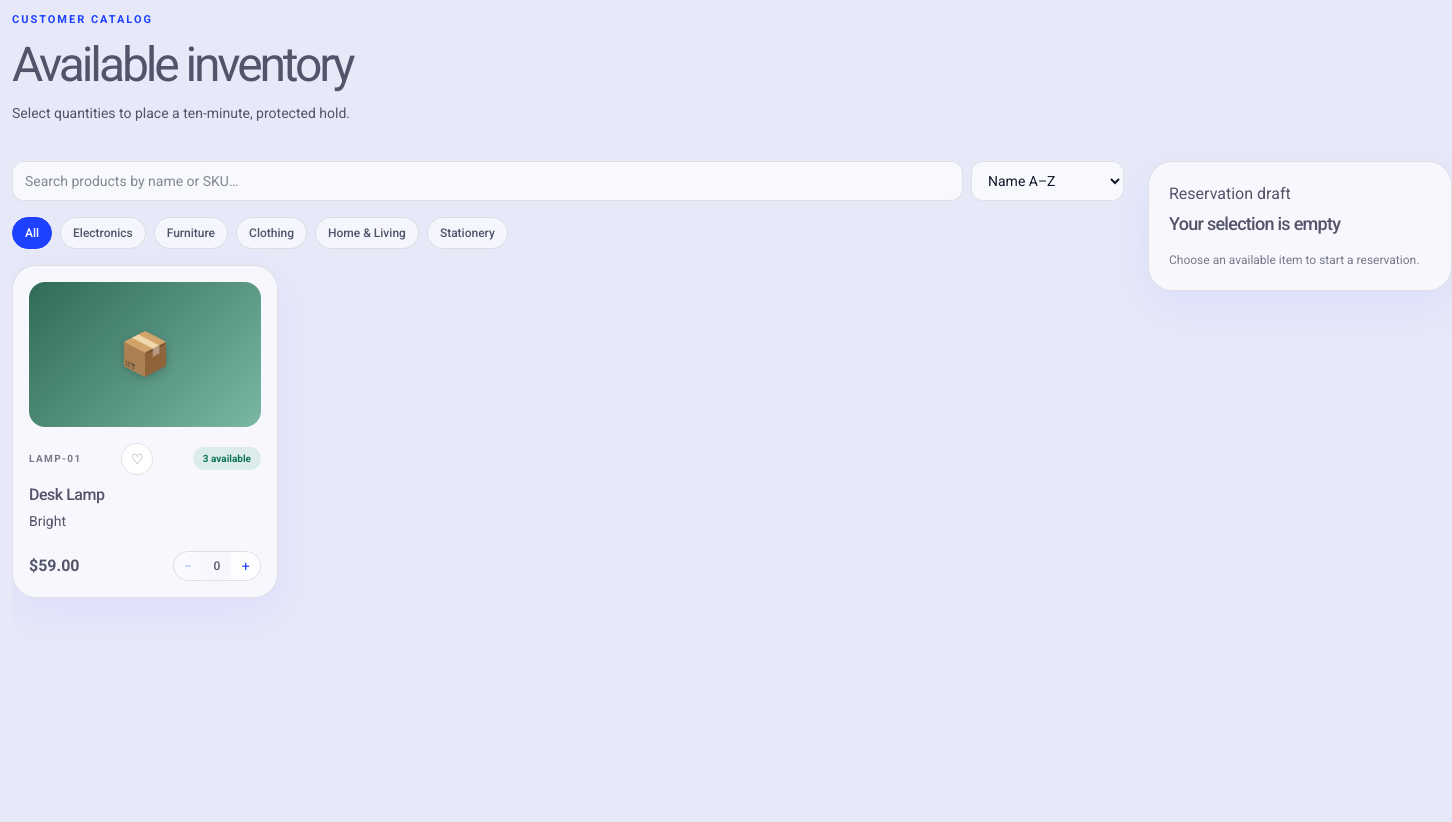
Test: CustomerCatalog › toggles wishlist membership from the product card with snackbar feedback
Check: the heading "Desk Lamp" is shown, box [29,484,104,504]
Click the button named "Add Desk Lamp to wishlist" at x=137, y=458, box [121,442,153,474]
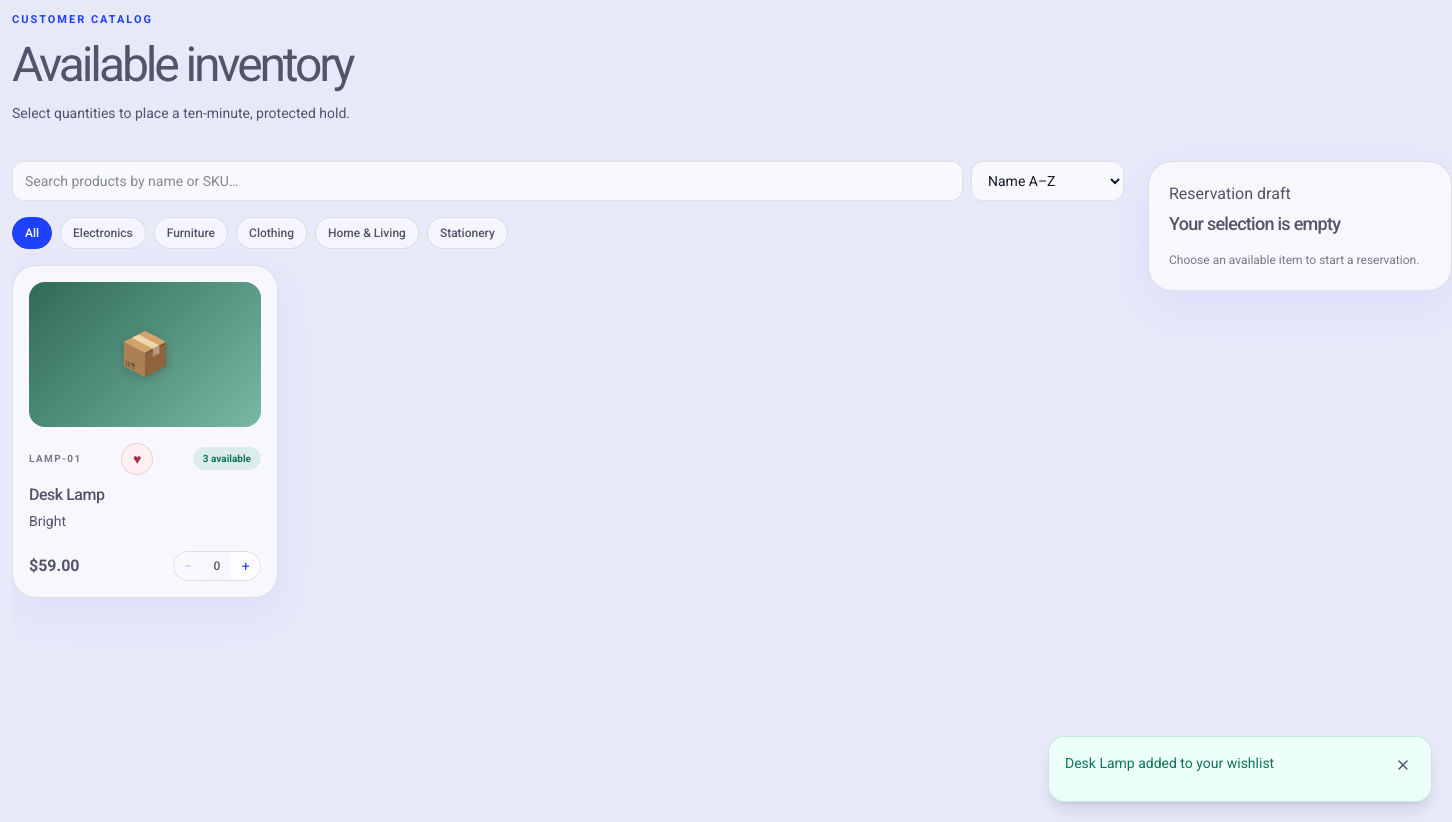
Check: the text "Desk Lamp added to your wishlist" is shown, box [1065,753,1274,773]
Click the button named "Remove Desk Lamp from wishlist" at x=137, y=458, box [121,442,153,474]
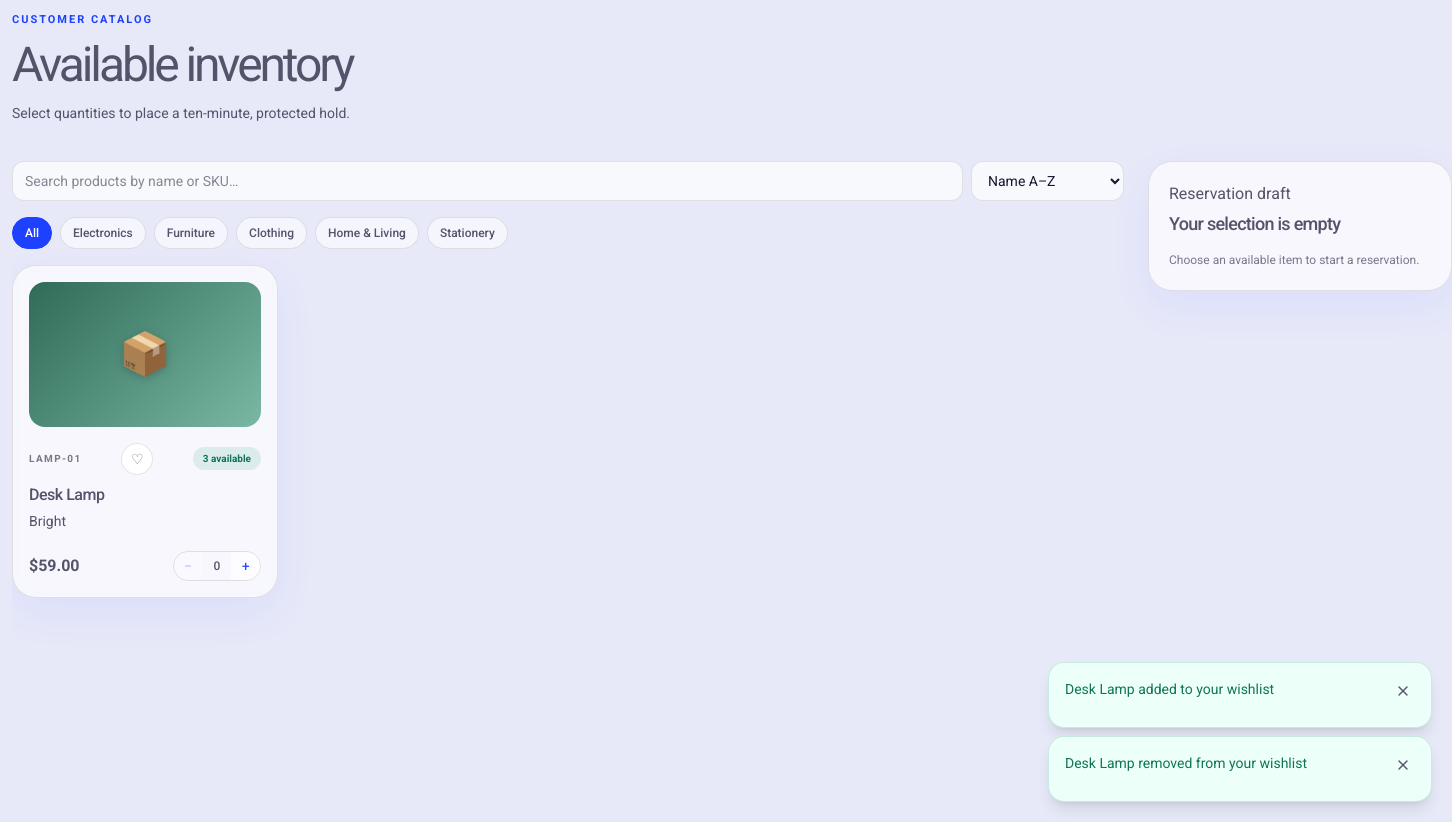
Check: the text "Desk Lamp removed from your wishlist" is shown, box [1065,753,1307,773]
